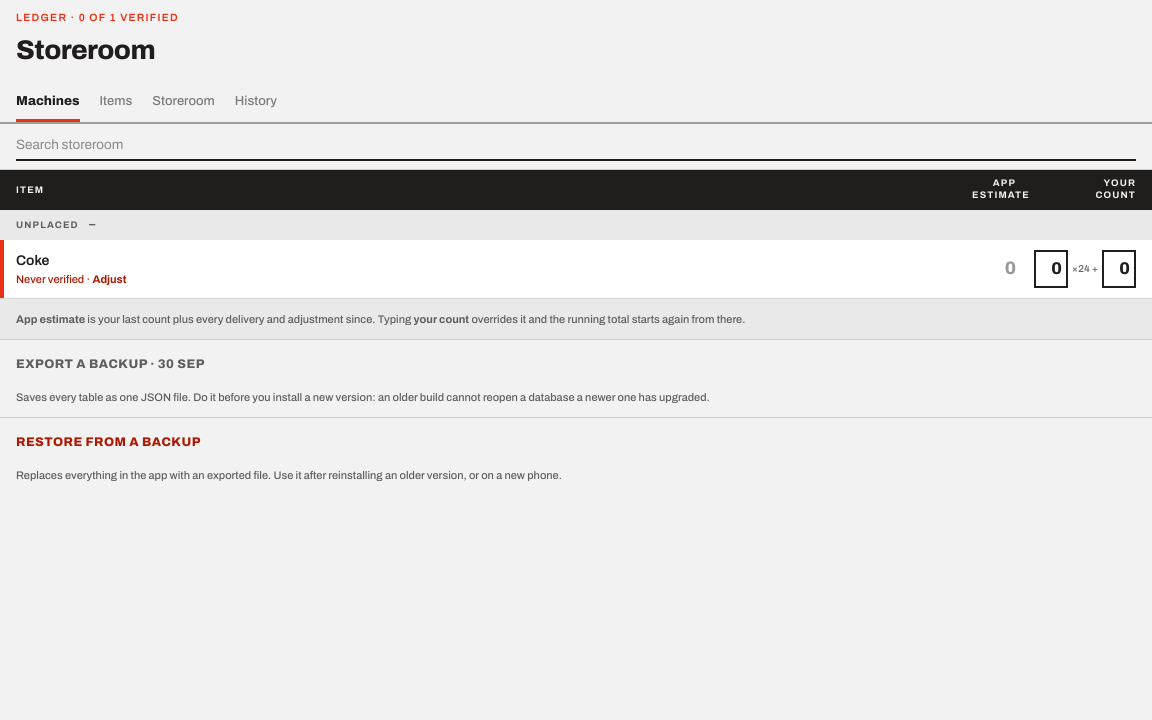
Test: StoreroomScreen › recording an adjustment › closes the floating sheet when the backdrop is tapped
This screenshot has width=1152, height=720.
Click the button with aria-label "Adjust Coke" at (109, 279), box [92, 271, 126, 288]
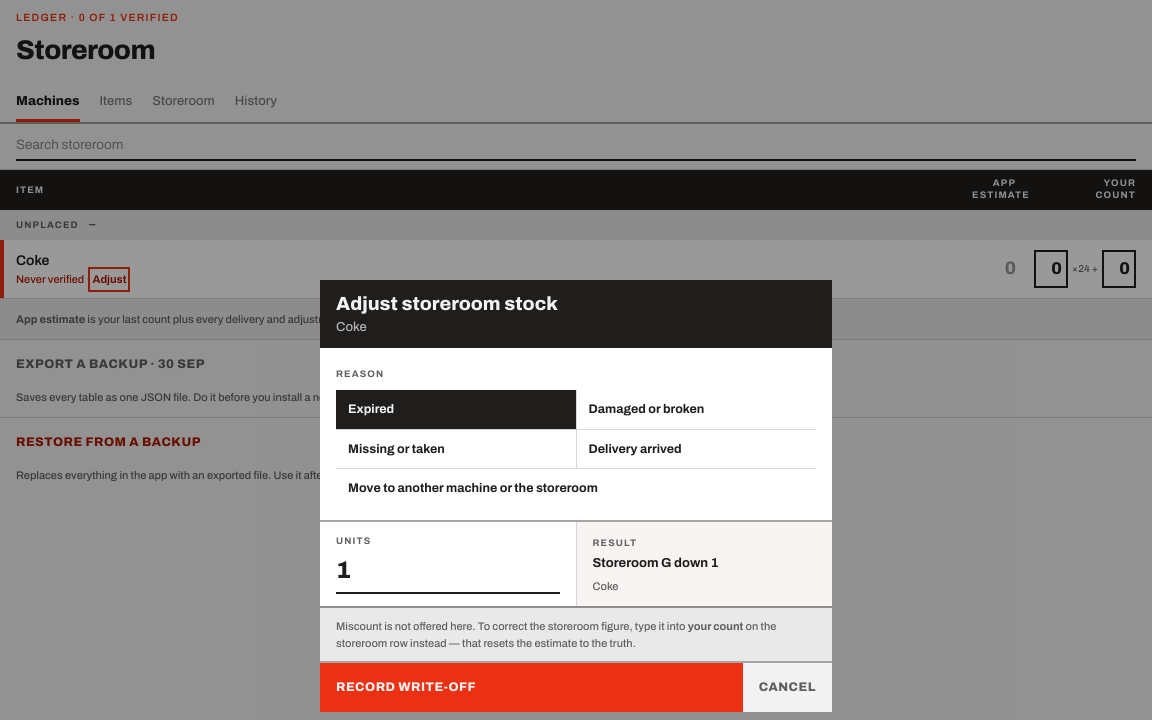
Check: the number field labelled "Units" is shown, box [336, 552, 560, 594]
Click the element named "Close adjustment sheet" at (69, 360), box [0, 0, 1151, 719]
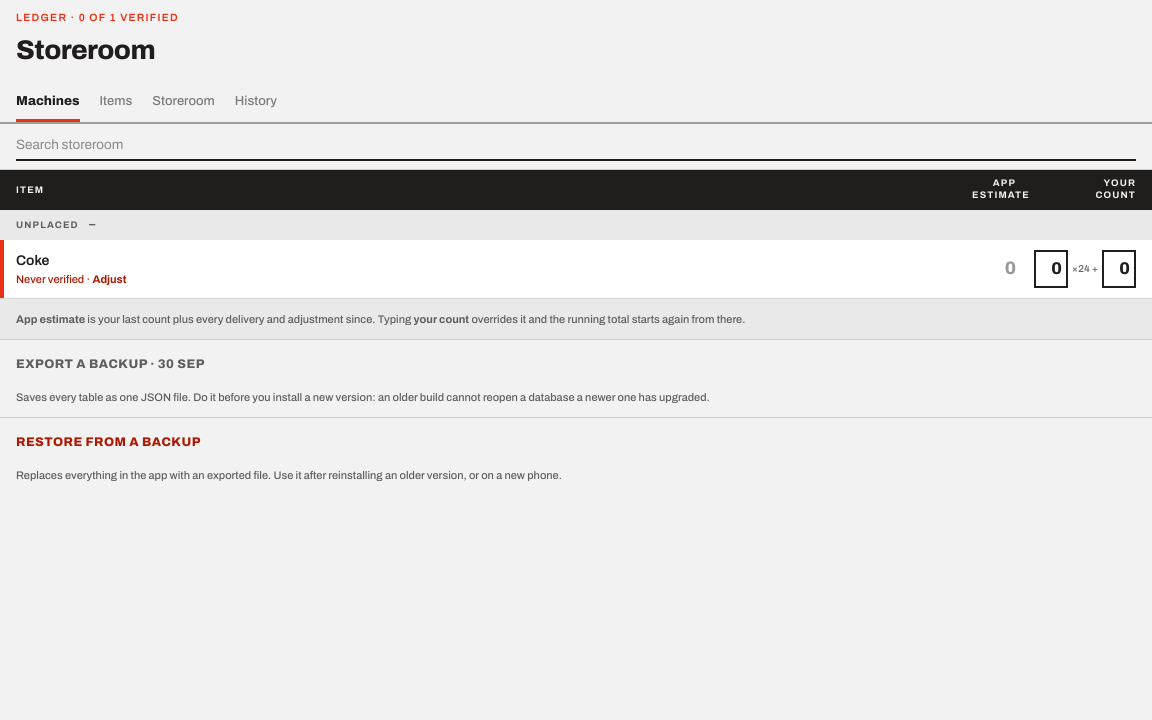
Check: the text labelled "Units" is gone
